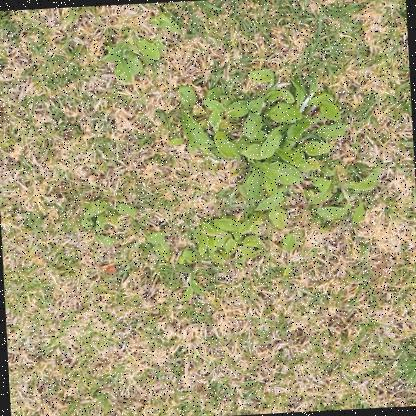Weeds: (168, 62, 386, 301), (79, 195, 170, 266), (99, 12, 185, 83)
